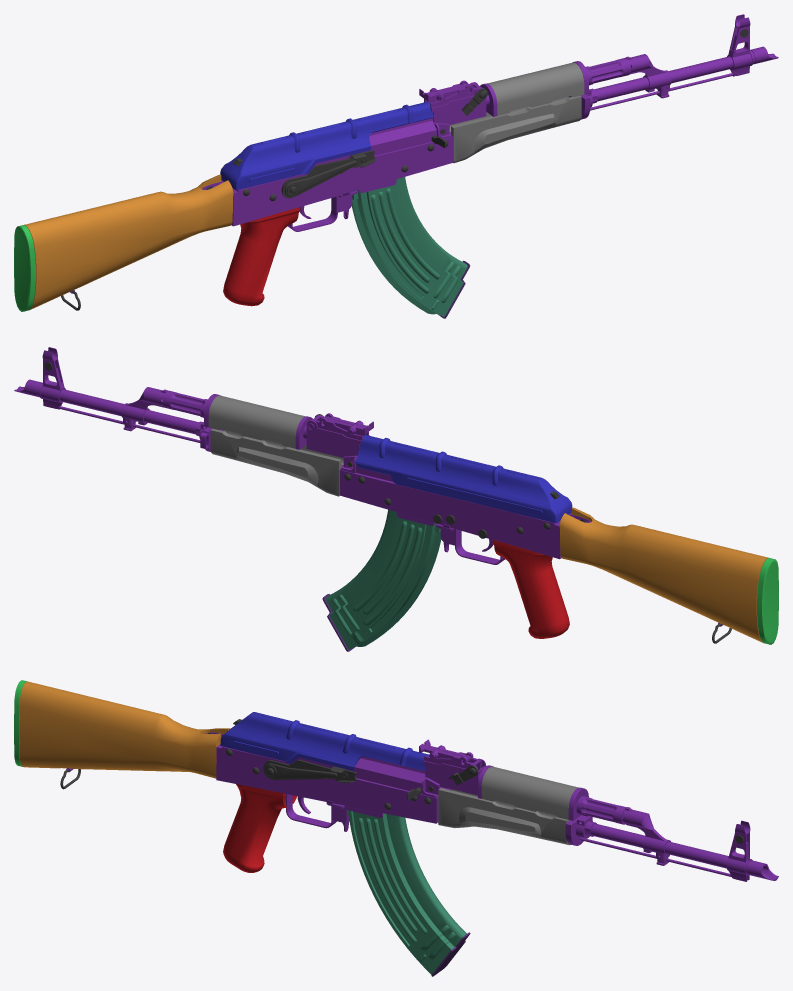
File: AKM.fbx
The picture shows the model from 3 angles, top to bottom: view 1: azimuth 30°, elevation 25°; view 2: azimuth 150°, elevation 25°; view 3: azimuth 330°, elevation 25°; orthographic projection.
Visible parts, largest first — view 1: m_base_low (×8); view 2: m_base_low (×8); view 3: m_base_low (×8).
Part boxes in pixels (x1,y1,x2,y2): m_base_low (×8): (14, 14, 778, 317); m_base_low (×8): (14, 347, 778, 649); m_base_low (×8): (14, 680, 778, 974).
Size of the model in its own units: 192 by 54.79 by 13.56.
